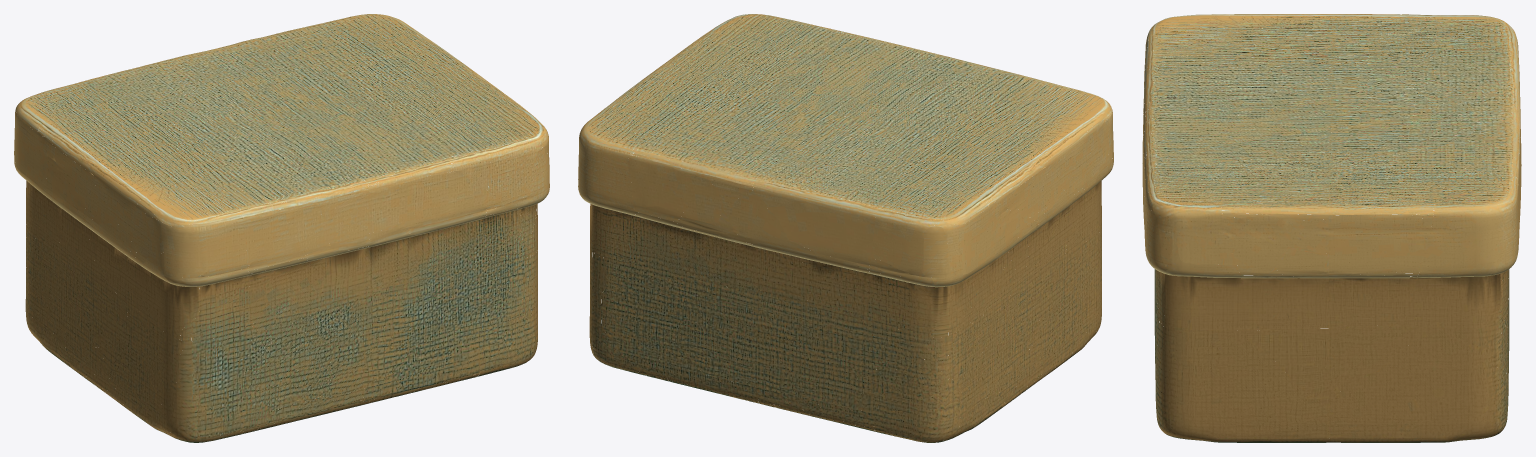
File: storage-box.glb
3 renders of one model, left to right at view 1: azimuth 30°, elevation 25°; view 2: azimuth 150°, elevation 25°; view 3: azimuth 270°, elevation 25°, orthographic. The views are drawn at different scales.
Visible parts, largest first — view 1: storage-box; view 2: storage-box; view 3: storage-box.
Boxes of the visible parts, left/top/right/bottom form: storage-box: left=14, top=14, right=549, bottom=442; storage-box: left=578, top=14, right=1113, bottom=442; storage-box: left=1142, top=14, right=1521, bottom=442.
Size of the model in its own units: 0.9794 by 0.5605 by 0.7882.
Materials: 1 (1 with a texture image).
